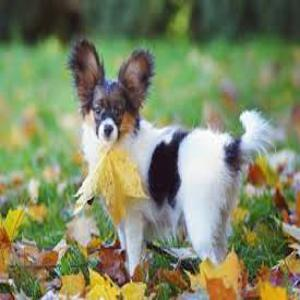yell: (67, 37, 286, 273)
